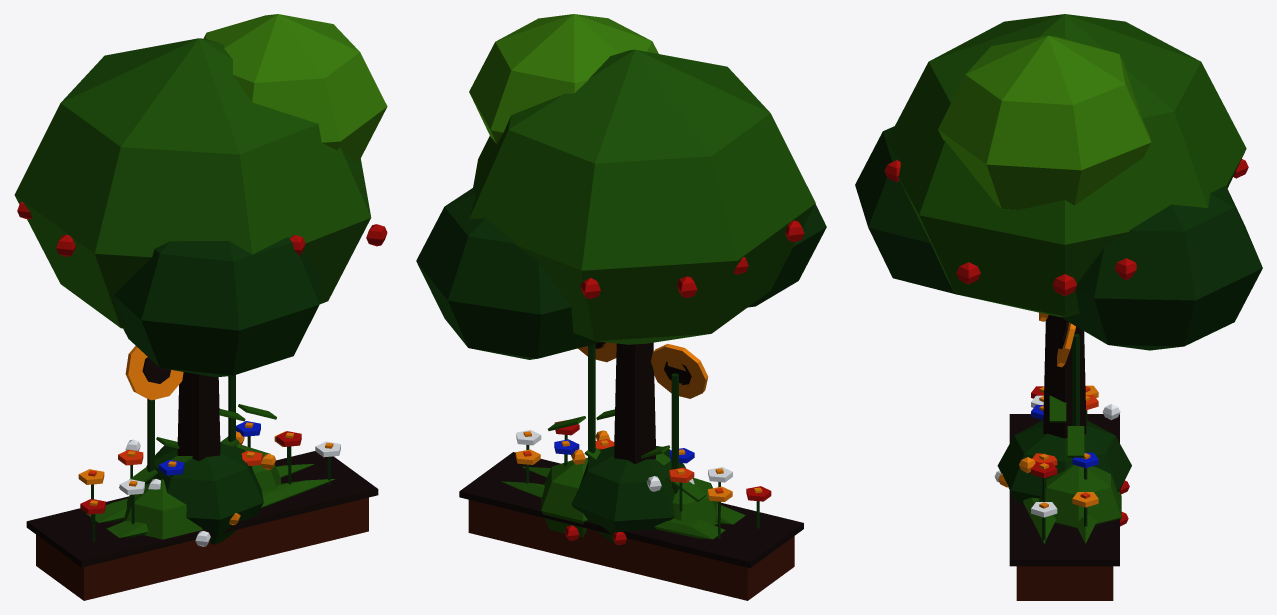
File: farm_garden.glb
3 renders of one model, left to right at view 1: azimuth 30°, elevation 25°; view 2: azimuth 150°, elevation 25°; view 3: azimuth 270°, elevation 25°, orthographic. The views are drawn at different scales.
Visible parts, largest first — view 1: SM_FG_AppleTree, SM_FG_Planter, SM_FG_Bush, SM_FG_Sunflowers; view 2: SM_FG_AppleTree, SM_FG_Planter, SM_FG_Bush, SM_FG_Sunflowers; view 3: SM_FG_AppleTree, SM_FG_Planter, SM_FG_Bush, SM_FG_Sunflowers.
Part boxes in pixels (x1,y1,x2,y2): SM_FG_AppleTree: [14, 14, 387, 461]; SM_FG_Planter: [26, 421, 378, 600]; SM_FG_Bush: [123, 432, 280, 546]; SM_FG_Sunflowers: [119, 345, 276, 487]; SM_FG_AppleTree: [416, 14, 826, 463]; SM_FG_Planter: [459, 420, 803, 600]; SM_FG_Bush: [541, 430, 717, 545]; SM_FG_Sunflowers: [548, 342, 708, 501]; SM_FG_AppleTree: [855, 14, 1262, 438]; SM_FG_Planter: [1009, 385, 1119, 600]; SM_FG_Bush: [994, 404, 1131, 528]; SM_FG_Sunflowers: [1039, 312, 1084, 458].
Size of the model in its own units: 2.72 by 4.22 by 2.95.
Materials: 5 (5 with a texture image).
